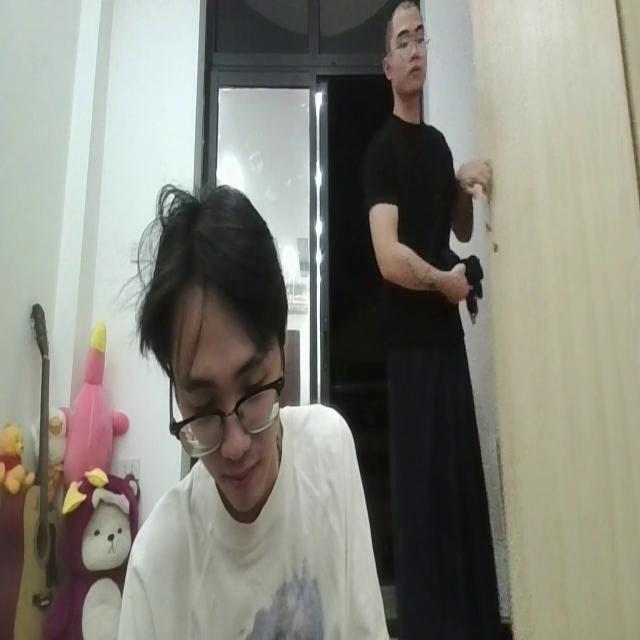extra_person: (366, 0, 502, 640)
student: (111, 178, 395, 640)
